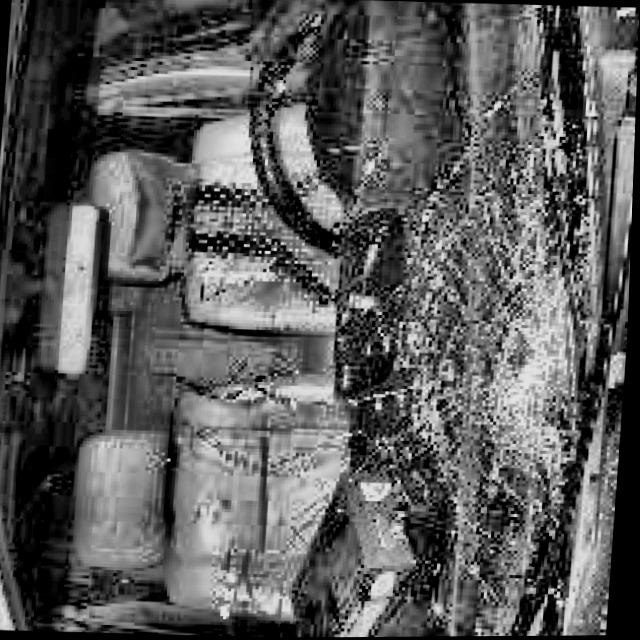glass_shatter: (373, 200, 600, 508)
